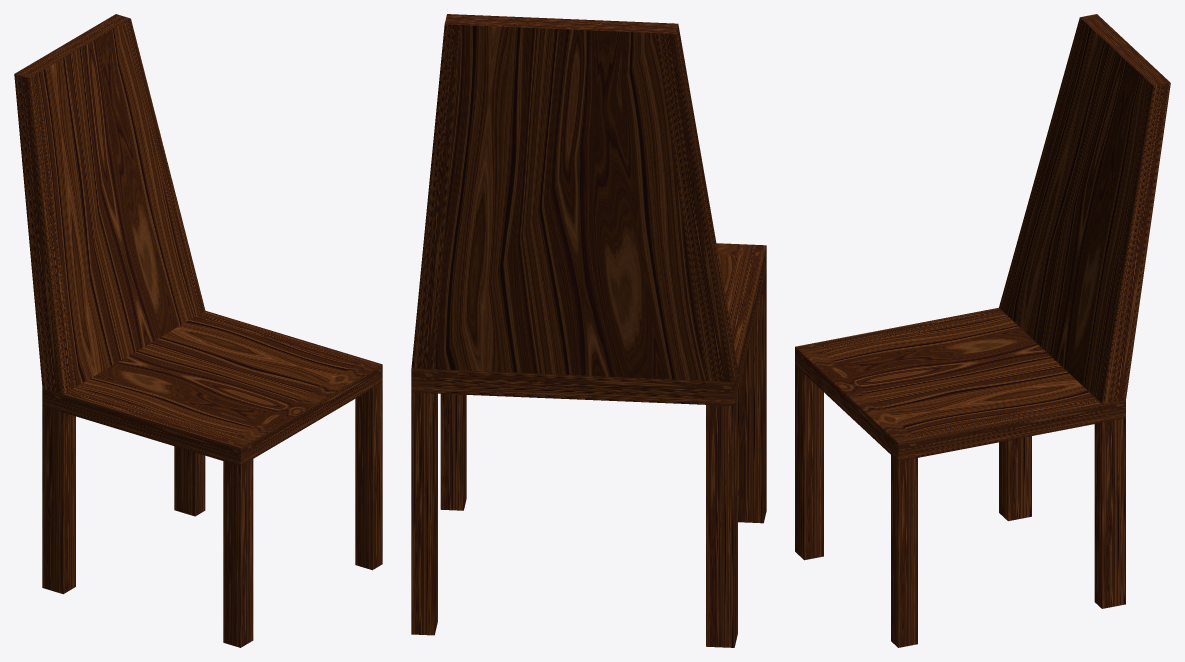
File: chair.obj
3 views of the same model, side by side, from view 1: azimuth 30°, elevation 25°; view 2: azimuth 150°, elevation 25°; view 3: azimuth 270°, elevation 25° (orthographic). The views are drawn at different scales.
Visible parts, largest first — view 1: Cube.005_Cube.009; view 2: Cube.005_Cube.009; view 3: Cube.005_Cube.009.
Part boxes in pixels (x1=…): Cube.005_Cube.009: x1=14, y1=14, x2=382, y2=647; Cube.005_Cube.009: x1=411, y1=14, x2=766, y2=647; Cube.005_Cube.009: x1=795, y1=14, x2=1170, y2=647.
Size of the model in its own units: 0.4683 by 0.7776 by 0.5317.
